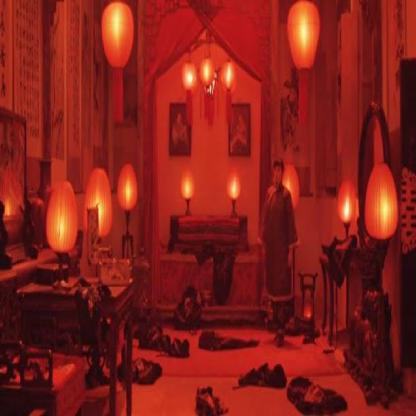other: (178, 50, 244, 107), (98, 0, 141, 68), (46, 172, 77, 248), (82, 165, 116, 234), (284, 6, 321, 69), (370, 167, 398, 233), (115, 162, 141, 207), (338, 176, 355, 228), (282, 163, 300, 206), (222, 164, 242, 200), (179, 164, 198, 200)
